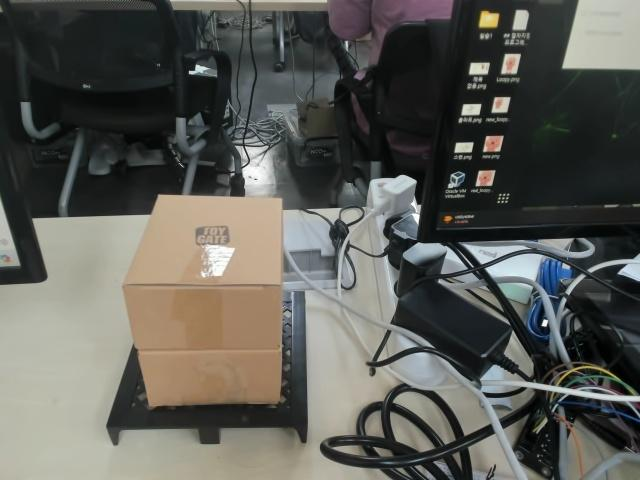box: (107, 195, 312, 445)
